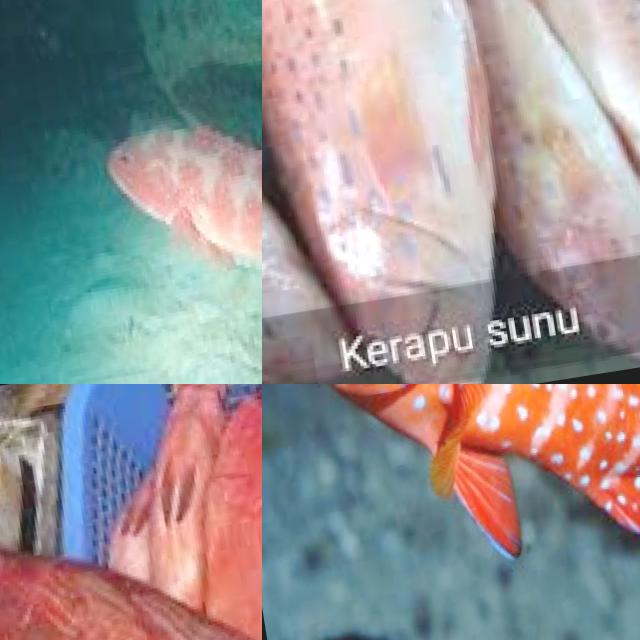Plectropomus-leopardus: (262, 0, 554, 384), (262, 384, 640, 640), (0, 384, 262, 640), (87, 57, 262, 384)
